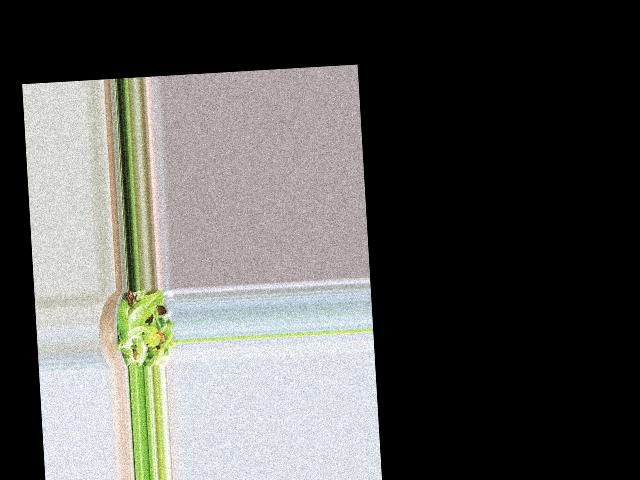lettuce: (115, 295, 173, 364)
